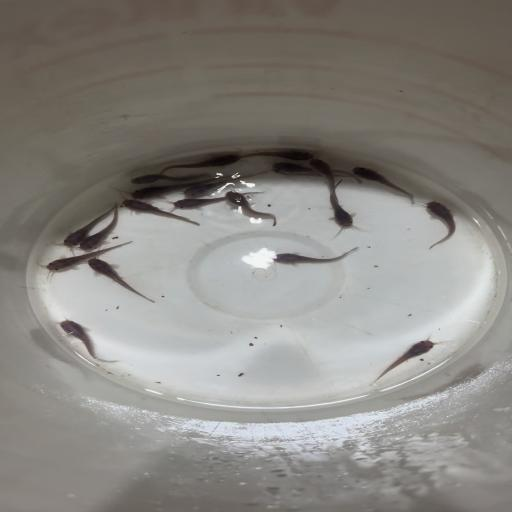lele: (365, 332, 451, 388), (36, 238, 135, 277), (50, 313, 122, 363), (86, 256, 158, 304), (52, 206, 114, 250), (352, 164, 416, 206), (180, 170, 268, 200), (119, 197, 202, 227), (266, 160, 364, 184), (122, 178, 225, 200), (416, 198, 460, 249), (220, 190, 279, 227), (80, 200, 122, 250), (170, 190, 265, 212), (263, 246, 361, 267), (324, 180, 360, 232), (163, 152, 243, 174), (309, 156, 345, 202), (127, 172, 211, 186), (240, 149, 322, 162), (270, 170, 350, 181)
